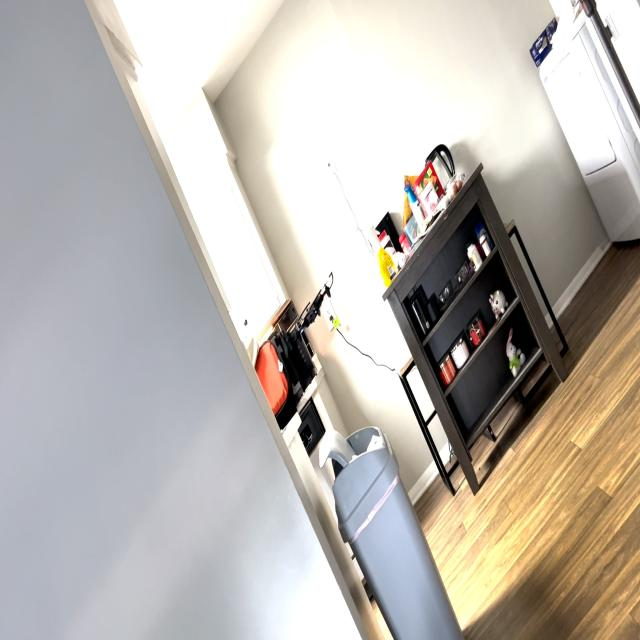drone: (283, 256, 345, 348)
